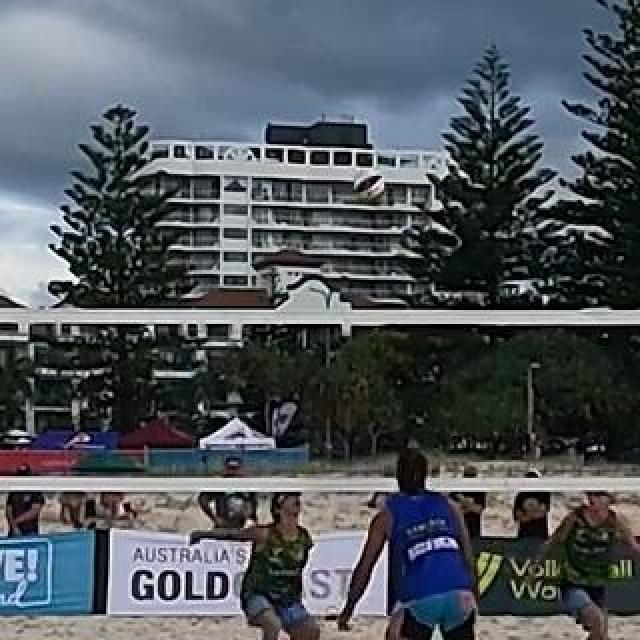volleyball: (354, 173, 386, 203)
